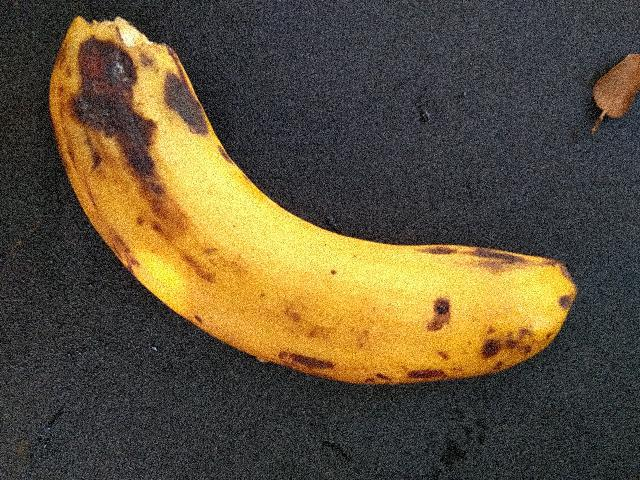overripe: (35, 0, 596, 425)
